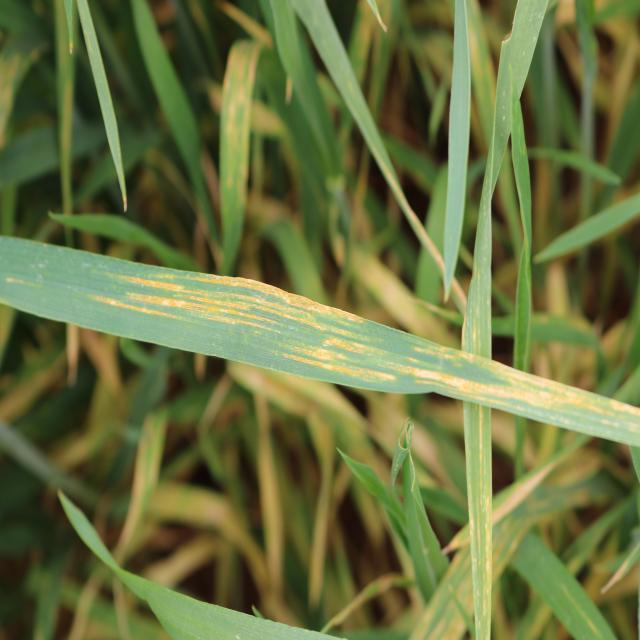Stripe Rust: (296, 325, 628, 431), (82, 253, 231, 342)
